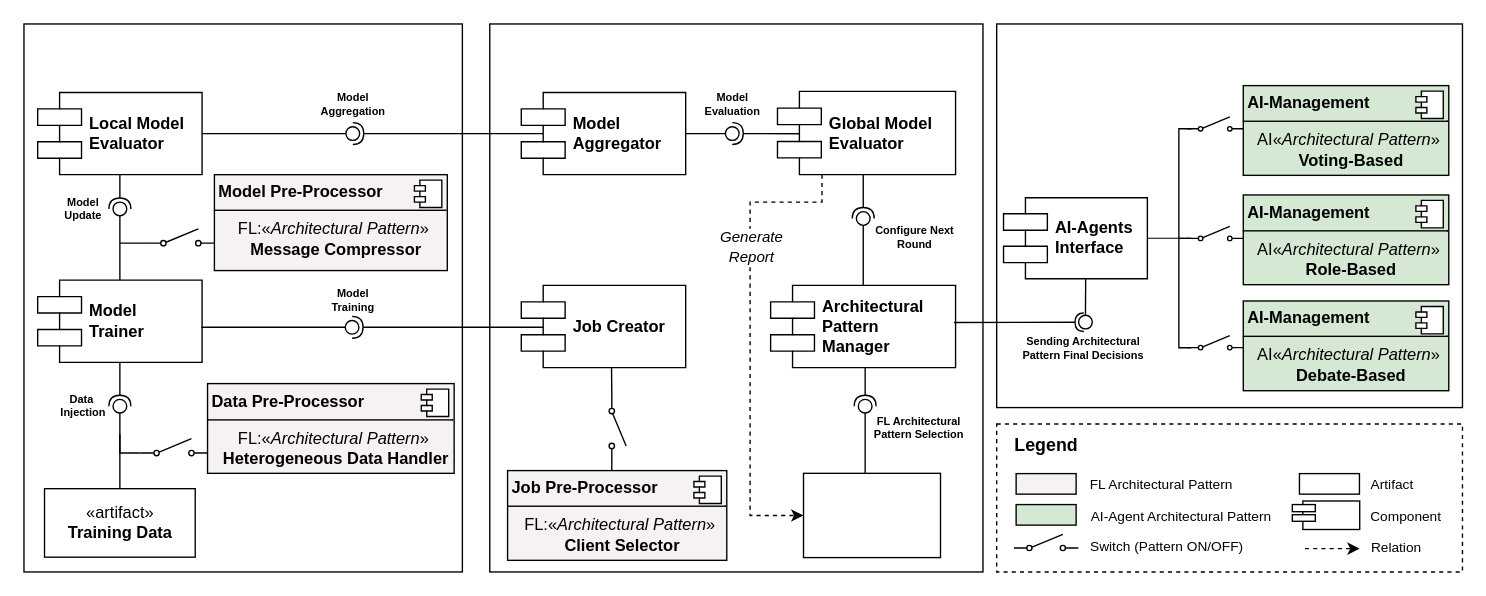
The diagram is 1486 pixels wide and 596 high, and some of its shapes have lost their labels. Each missing label, with the box of its shape:
« subsystems » Central Server: (488, 23, 983, 572)
« subsystems » Client Device: (23, 23, 462, 572)
« subsystems » Multi AI-Agents: (995, 23, 1462, 408)
«artifact» Evaluation Metrics ( last rounds ): (802, 472, 941, 558)
